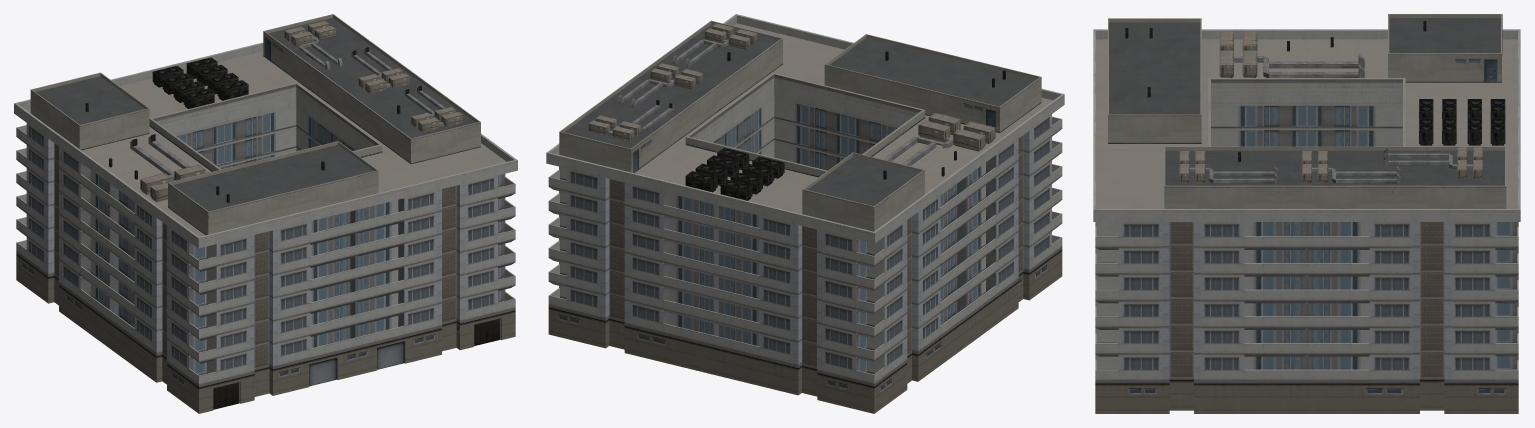
Rendered from condo-2.glb.
3 renders of one model, left to right at view 1: azimuth 30°, elevation 25°; view 2: azimuth 150°, elevation 25°; view 3: azimuth 270°, elevation 25°, orthographic. The views are drawn at different scales.
Visible parts, largest first — view 1: LOWRISEMODERNCONDO2_h_suibob01_arabblock6_t3_l1_0; view 2: LOWRISEMODERNCONDO2_h_suibob01_arabblock6_t3_l1_0; view 3: LOWRISEMODERNCONDO2_h_suibob01_arabblock6_t3_l1_0.
Part boxes in pixels (left/top/right/bottom): LOWRISEMODERNCONDO2_h_suibob01_arabblock6_t3_l1_0: left=14, top=14, right=517, bottom=413; LOWRISEMODERNCONDO2_h_suibob01_arabblock6_t3_l1_0: left=546, top=14, right=1064, bottom=413; LOWRISEMODERNCONDO2_h_suibob01_arabblock6_t3_l1_0: left=1093, top=14, right=1520, bottom=413.
Bounding box in the file's own units: 4360 × 2600 × 4360.
1 material, 1 textured.
